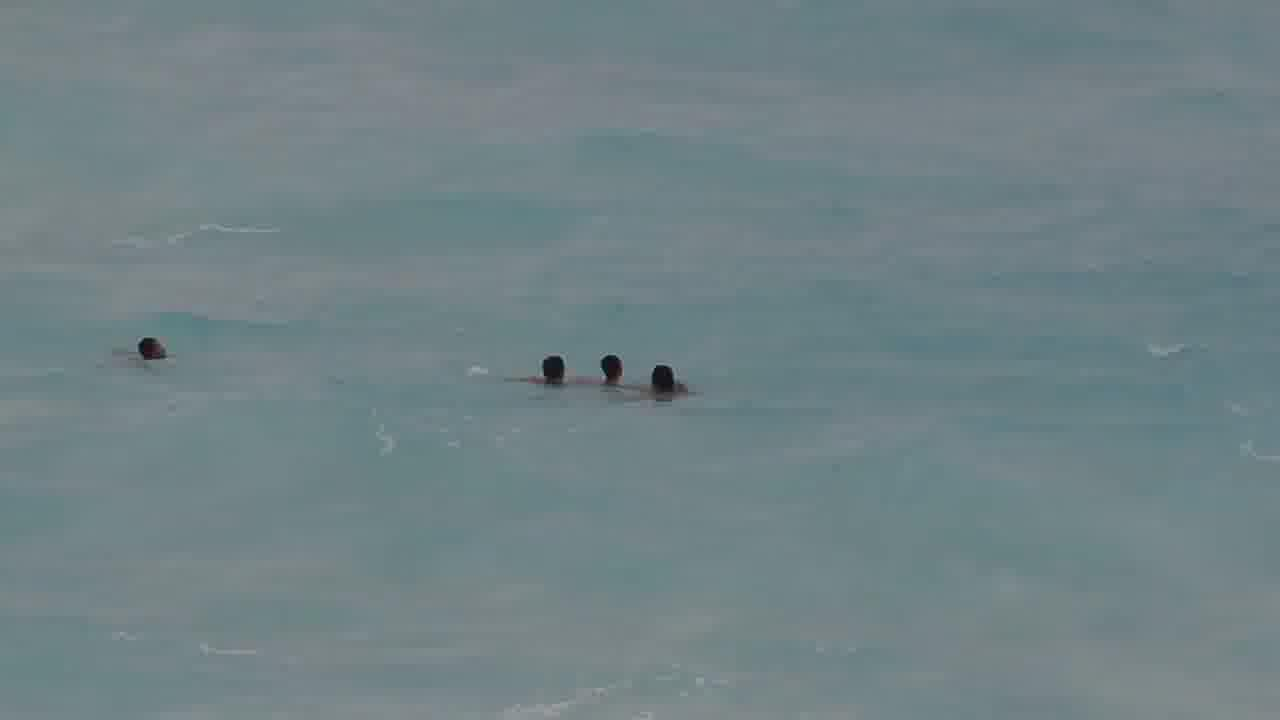human: (129, 325, 184, 370), (643, 357, 690, 406), (588, 340, 624, 389), (527, 350, 567, 388)
